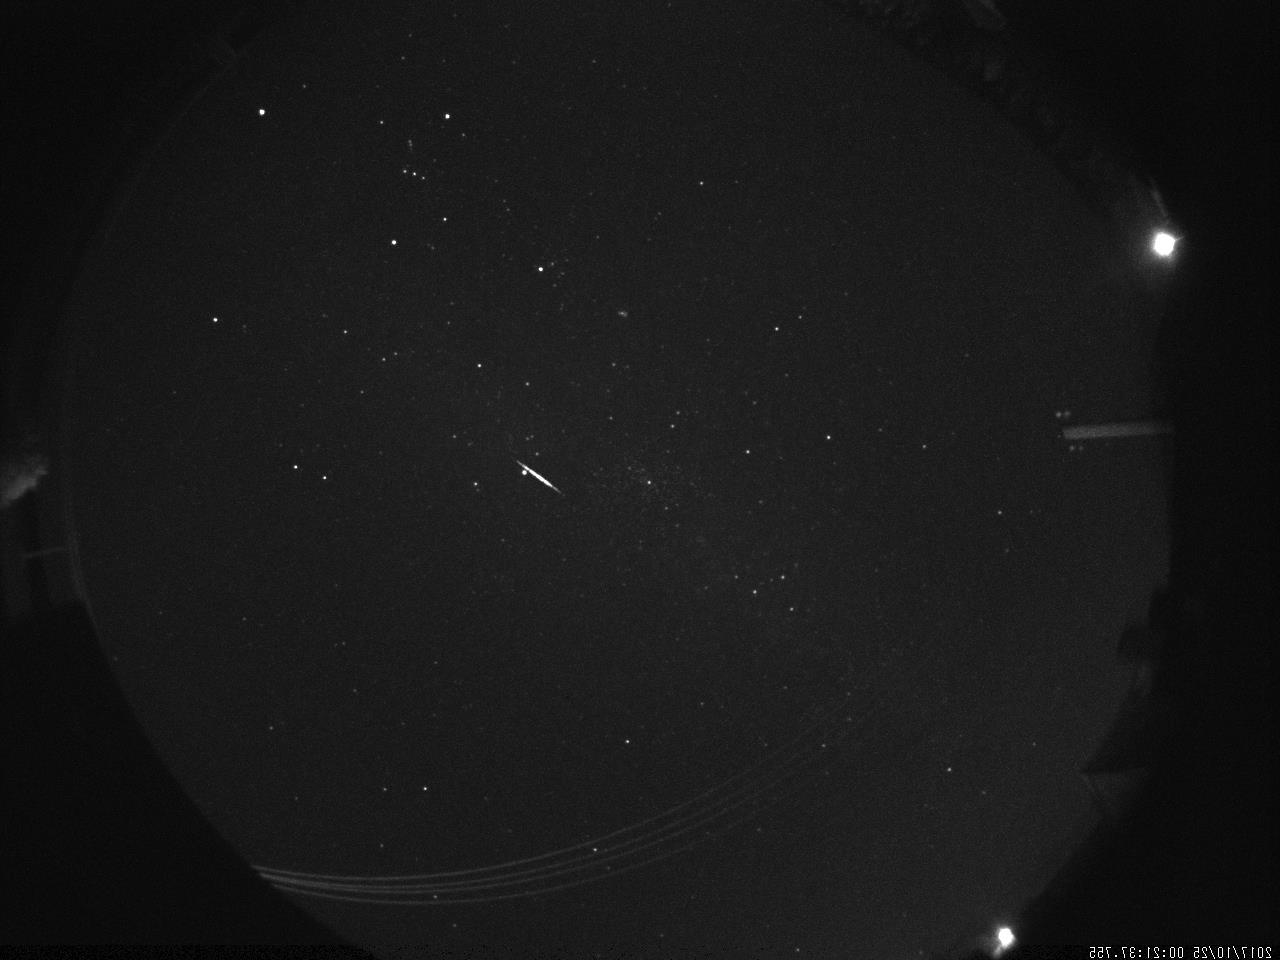meteor: (510, 448, 570, 500)
